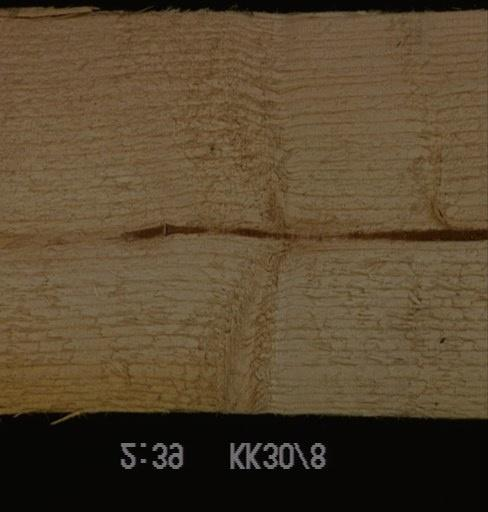split: (67, 224, 484, 253), (0, 11, 101, 26)
